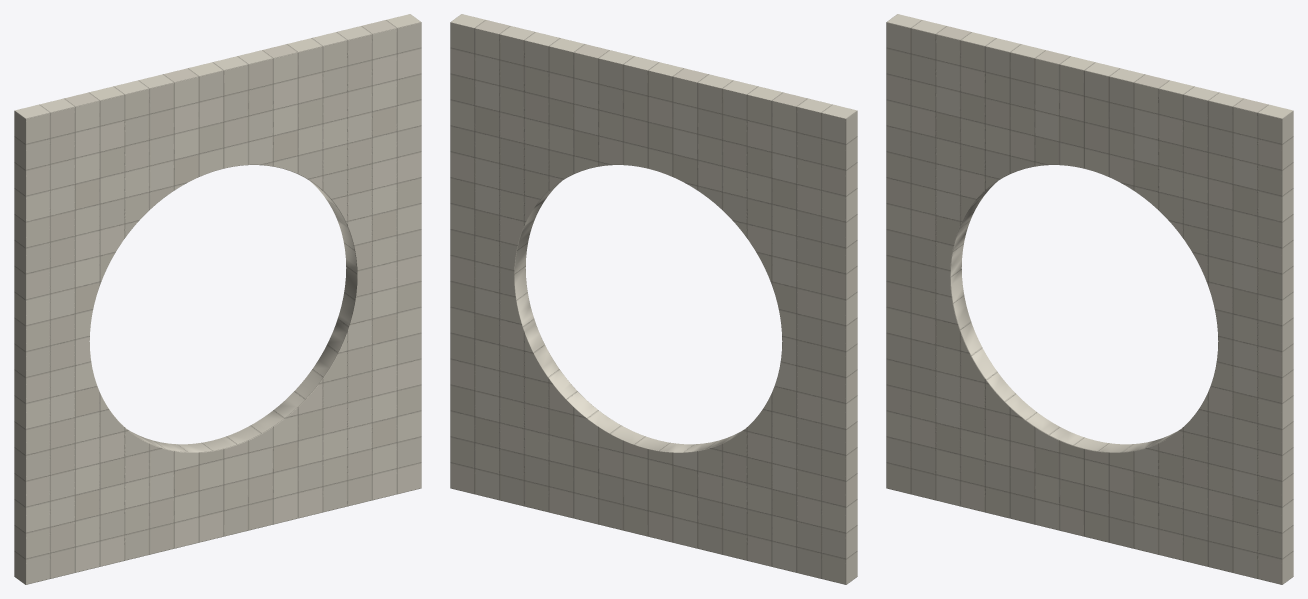
Rendered from MOD_51_Portal_Circular_Flooded.glb.
3 views of the same model, side by side, from view 1: azimuth 30°, elevation 25°; view 2: azimuth 150°, elevation 25°; view 3: azimuth 330°, elevation 25° (orthographic).
Parts seen in each view (by area): view 1: MOD_51_Portal_Circular_Flooded_Export; view 2: MOD_51_Portal_Circular_Flooded_Export; view 3: MOD_51_Portal_Circular_Flooded_Export.
Boxes of the visible parts, left/top/right/bottom form: MOD_51_Portal_Circular_Flooded_Export: left=14, top=14, right=421, bottom=584; MOD_51_Portal_Circular_Flooded_Export: left=450, top=14, right=857, bottom=584; MOD_51_Portal_Circular_Flooded_Export: left=886, top=14, right=1293, bottom=584.
Size of the model in its own units: 4 by 4.5 by 0.2.
1 material, 1 textured.
